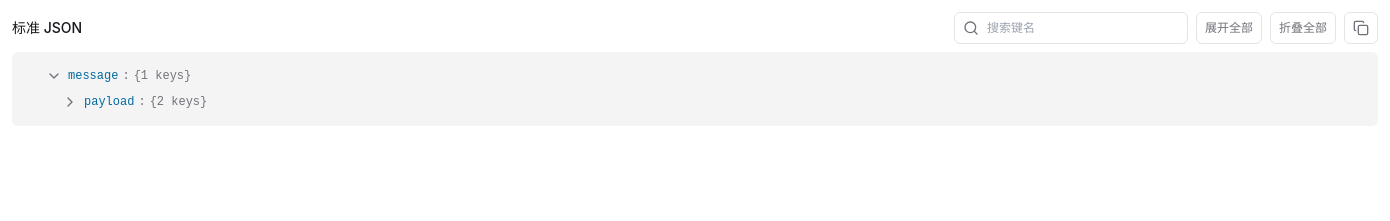
Test: JsonViewer › 默认展开两层并支持展开全部、折叠全部
Expected: the text "payload" is shown, [84,94,134,110]
Expected: the text "text" is not shown
Click the button "展开全部". click: (1229, 28)
box: [1196,12,1262,44]
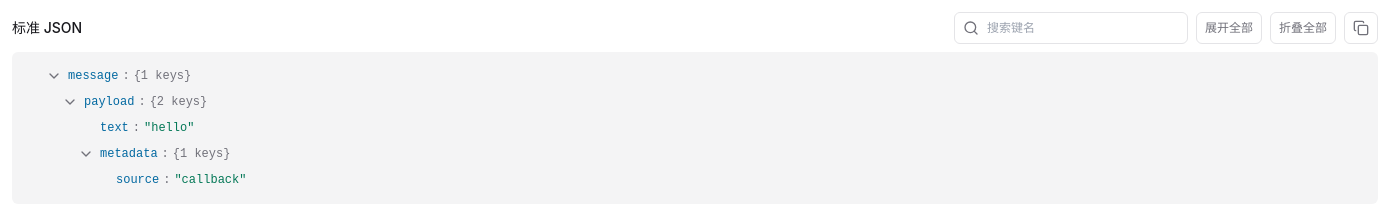
Expected: the text "text" is shown, [100,120,129,136]
Expected: the text "\"hello\"" is shown, [144,120,194,136]
Click the button "折叠全部". click: (1303, 28)
box: [1270,12,1336,44]
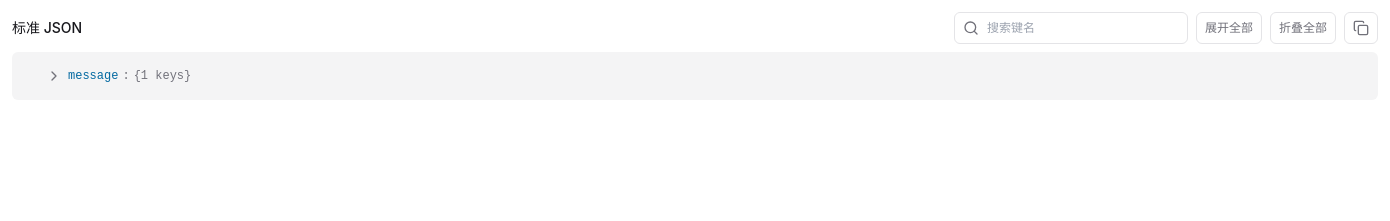
Expected: the text "message" is shown, [68,68,118,84]
Expected: the text "payload" is gone
